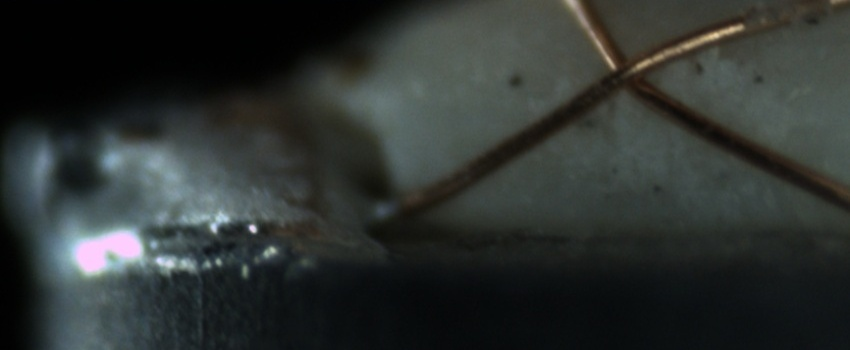CL: (591, 37, 666, 104)
